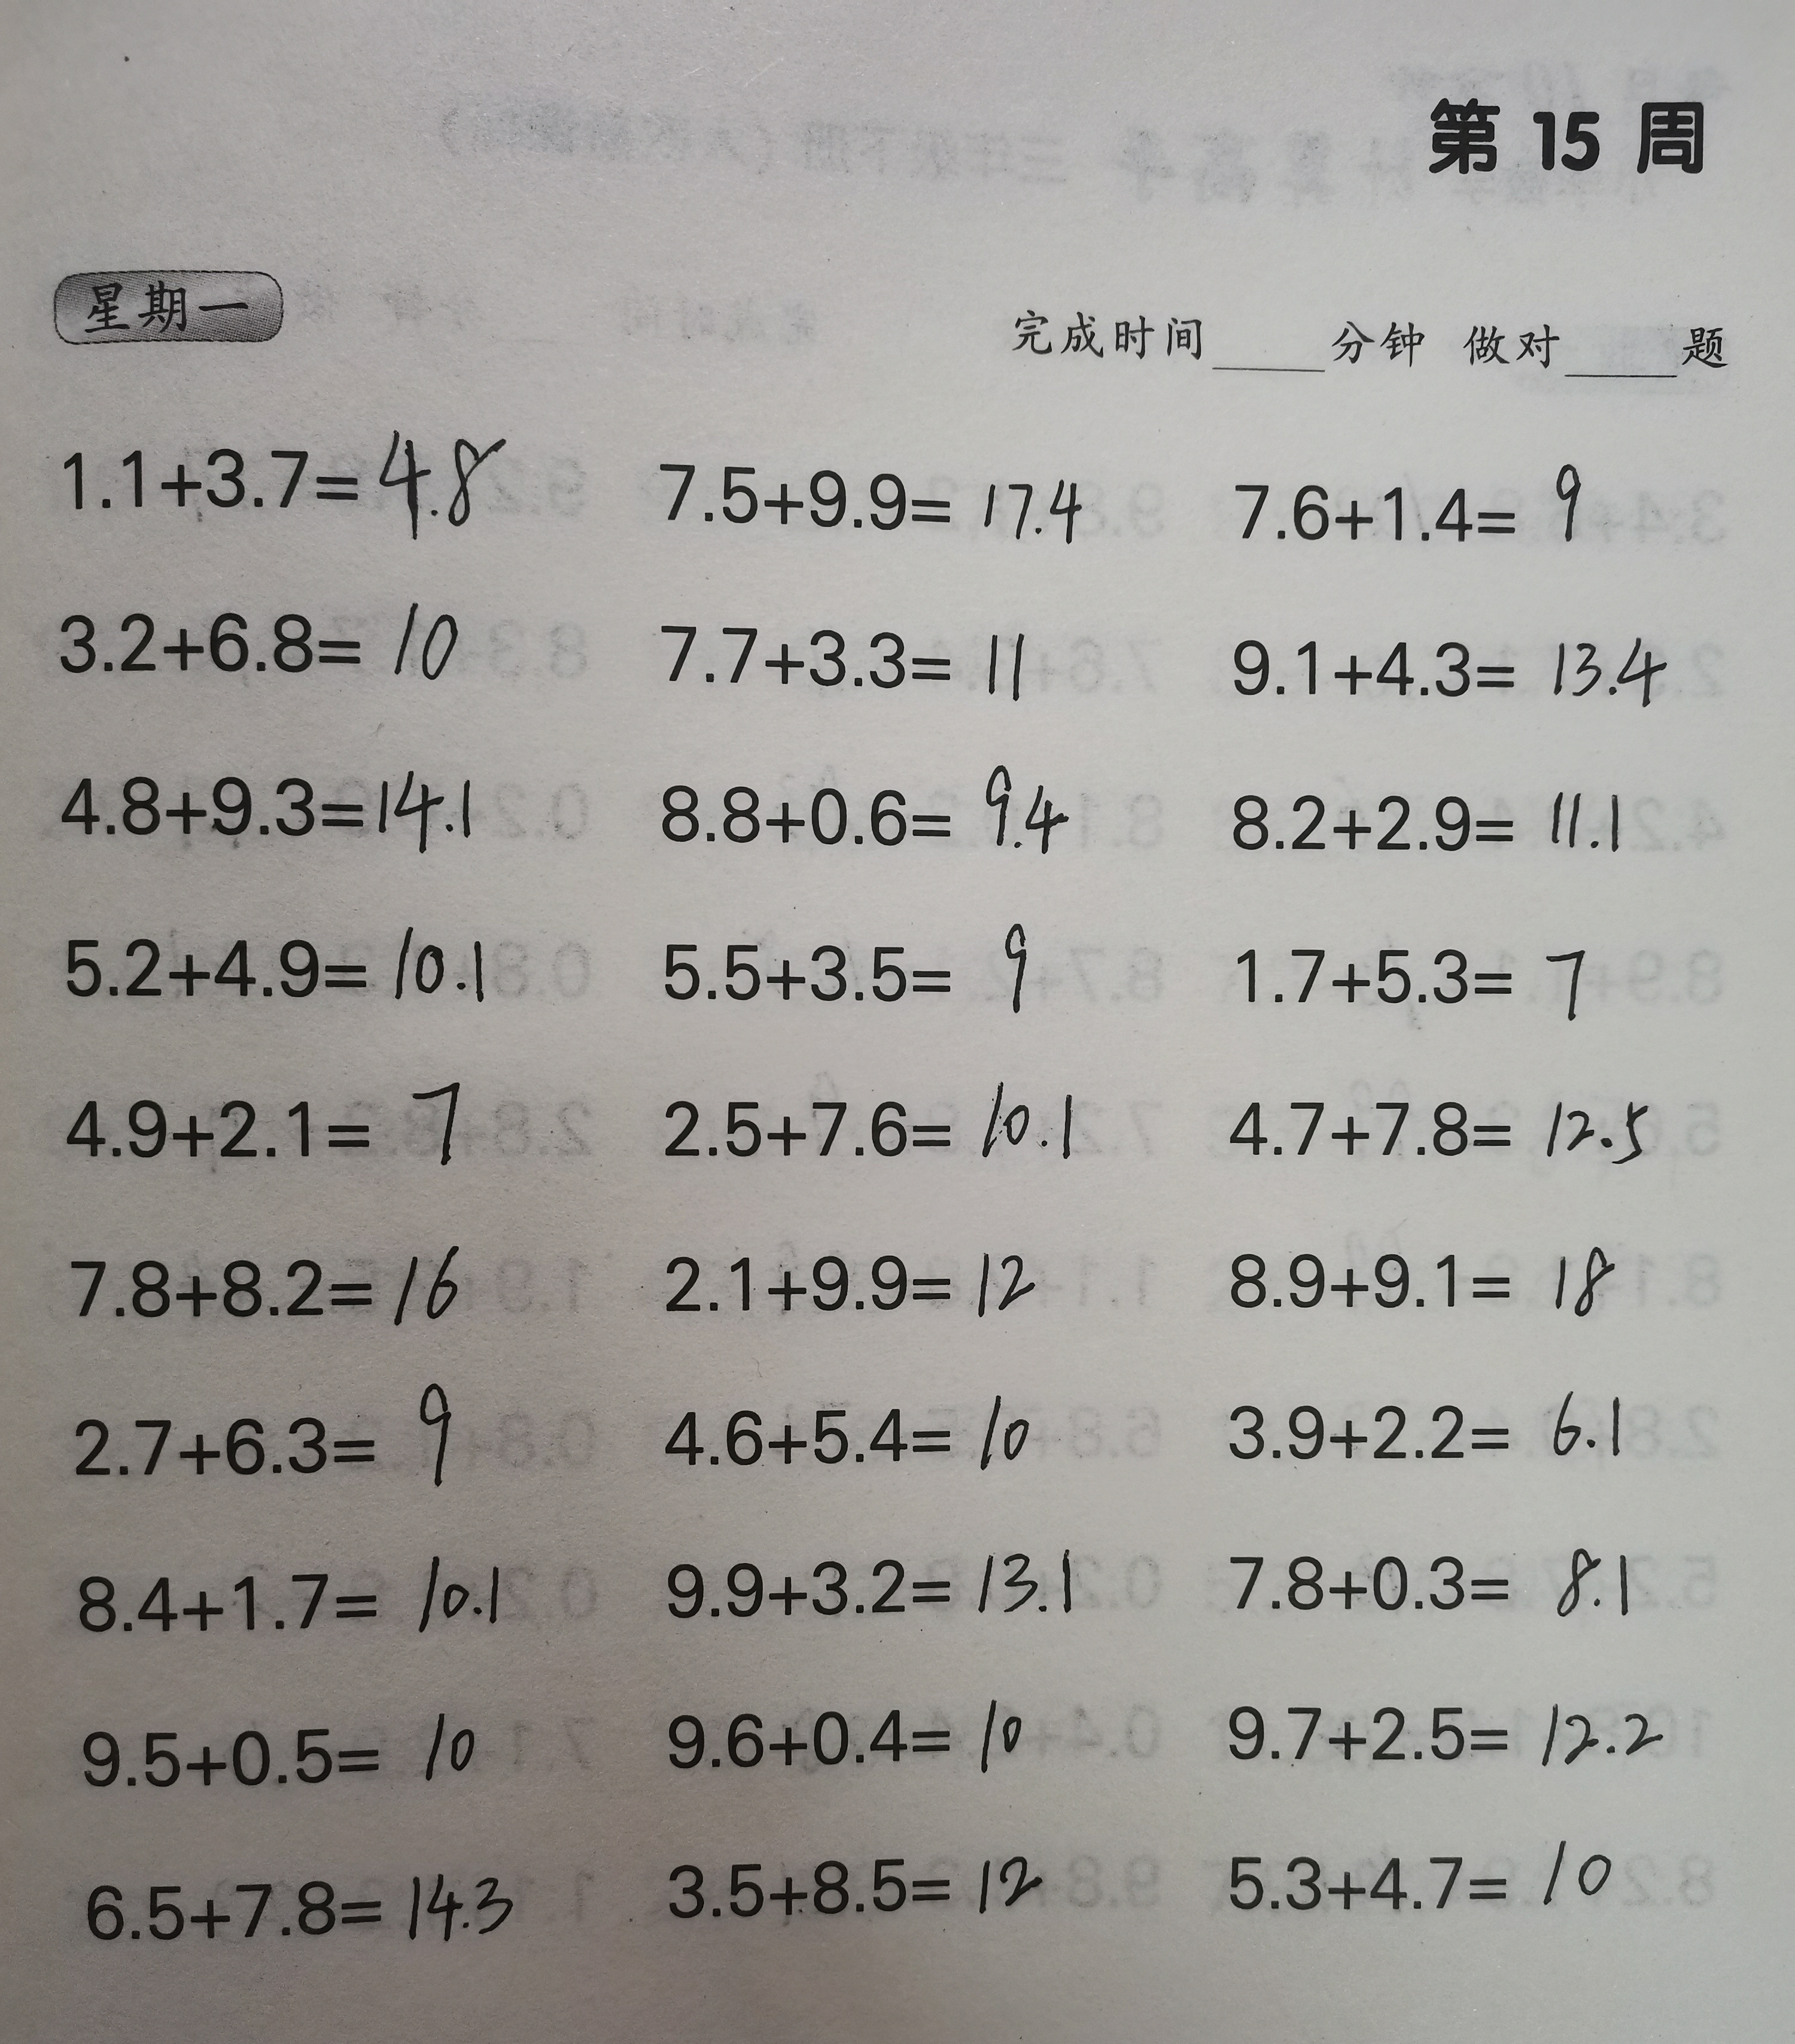equation: (50, 410, 502, 546), (50, 1062, 474, 1191), (648, 761, 1093, 878), (646, 436, 1090, 549), (56, 1377, 473, 1495), (52, 1225, 480, 1335), (1215, 1530, 1649, 1636), (1225, 435, 1599, 556), (75, 1853, 525, 1952), (650, 1072, 1077, 1177), (68, 1545, 520, 1642), (1215, 1684, 1670, 1780), (646, 1536, 1091, 1634), (52, 761, 485, 860), (1225, 622, 1672, 718), (653, 911, 1051, 1017), (1218, 1078, 1649, 1175), (1225, 918, 1600, 1029), (648, 598, 1034, 706), (38, 594, 466, 690), (1213, 1227, 1621, 1326), (1220, 766, 1639, 862), (1213, 1385, 1637, 1479), (52, 918, 500, 1005), (648, 1384, 1048, 1481), (648, 1686, 1043, 1782), (1218, 1827, 1633, 1917), (71, 1707, 490, 1795), (648, 1234, 1058, 1324), (655, 1844, 1072, 1931)
